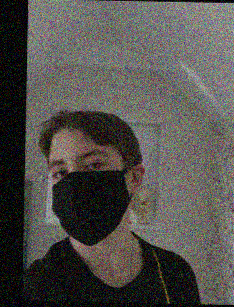with_mask: (46, 138, 132, 247)
